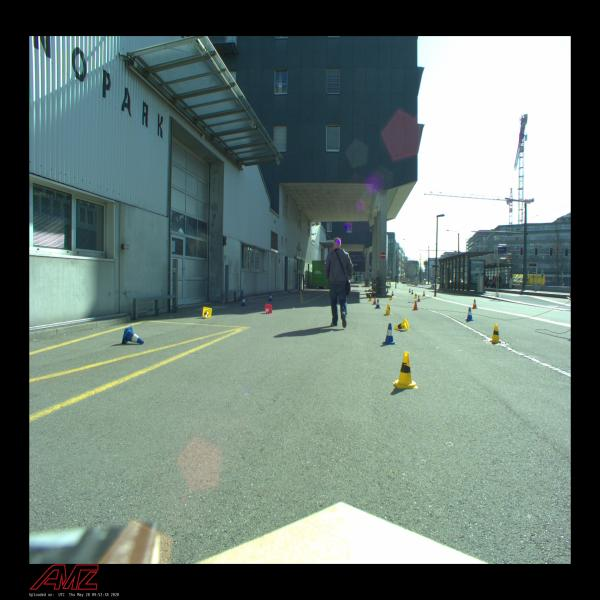blue_cone: (122, 326, 144, 344), (381, 324, 397, 344), (464, 307, 474, 321), (240, 296, 246, 306), (374, 299, 380, 308), (268, 294, 274, 302), (411, 290, 414, 294), (392, 291, 394, 296), (387, 289, 389, 293), (409, 288, 411, 292)
orange_cone: (264, 304, 272, 314), (412, 301, 419, 310), (472, 299, 478, 309), (372, 296, 377, 305), (417, 296, 421, 301), (423, 291, 425, 296)
yellow_cone: (392, 352, 418, 389), (490, 324, 502, 343), (395, 318, 410, 331), (202, 307, 212, 319), (384, 304, 393, 316), (368, 294, 372, 301), (389, 294, 393, 300), (414, 292, 417, 298)
